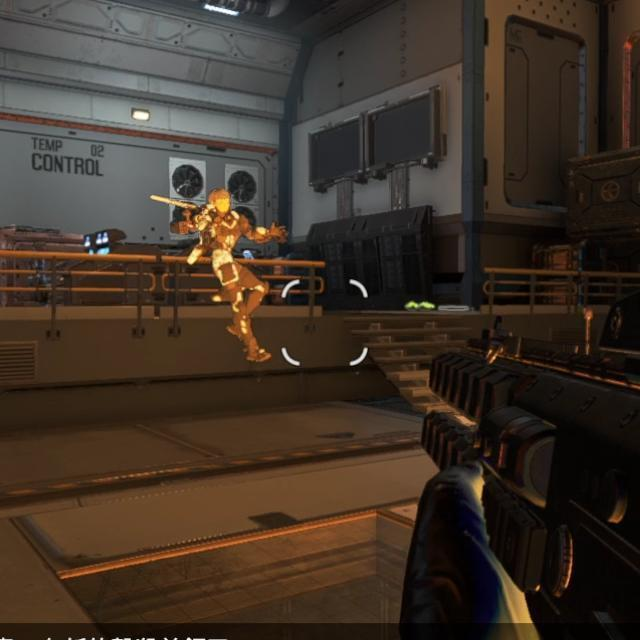avatar: (167, 187, 291, 365)
